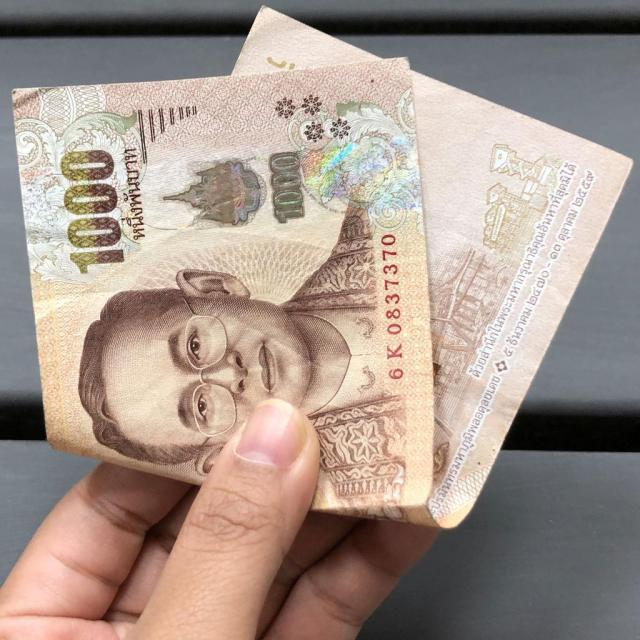THAI1000: (12, 9, 631, 528)
